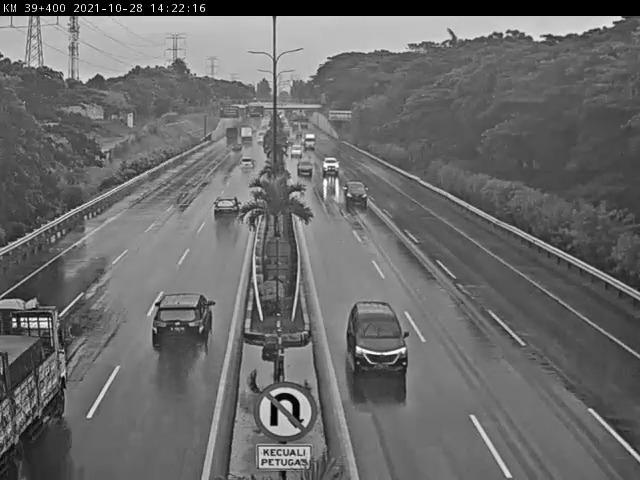car: (340, 300, 411, 380), (143, 290, 215, 353), (340, 180, 375, 209), (210, 192, 244, 219), (236, 154, 259, 174), (296, 158, 315, 177), (321, 156, 339, 175), (289, 143, 305, 159)
small truck: (0, 301, 87, 480)
